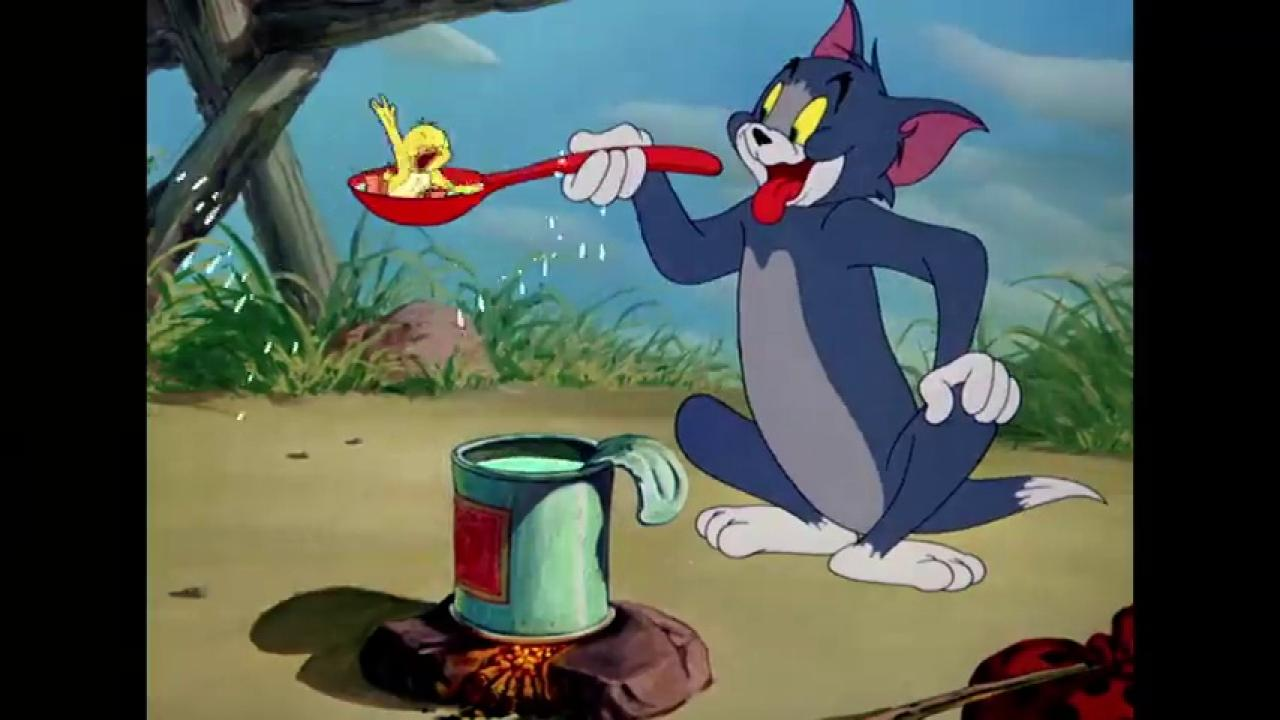Tom: (558, 0, 1110, 594)
